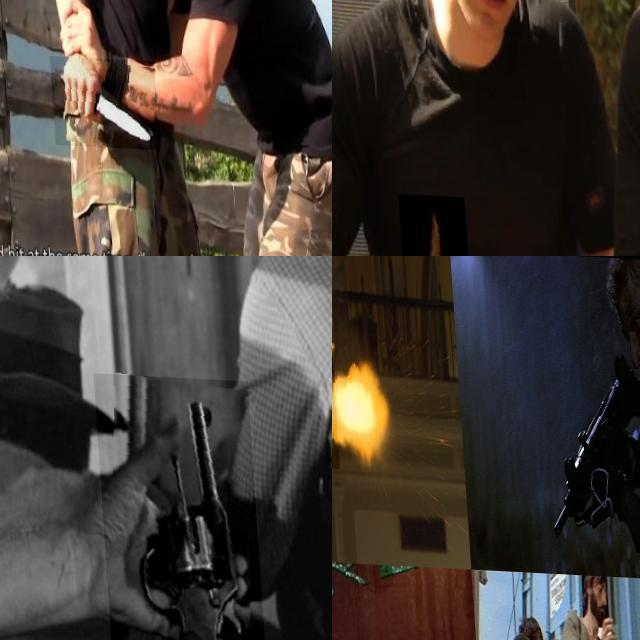-: (45, 54, 153, 147), (391, 193, 465, 256)
gun-knife-thesis - v11 Yolov5 augmented: (89, 370, 261, 640), (537, 339, 640, 554), (332, 330, 394, 467)
